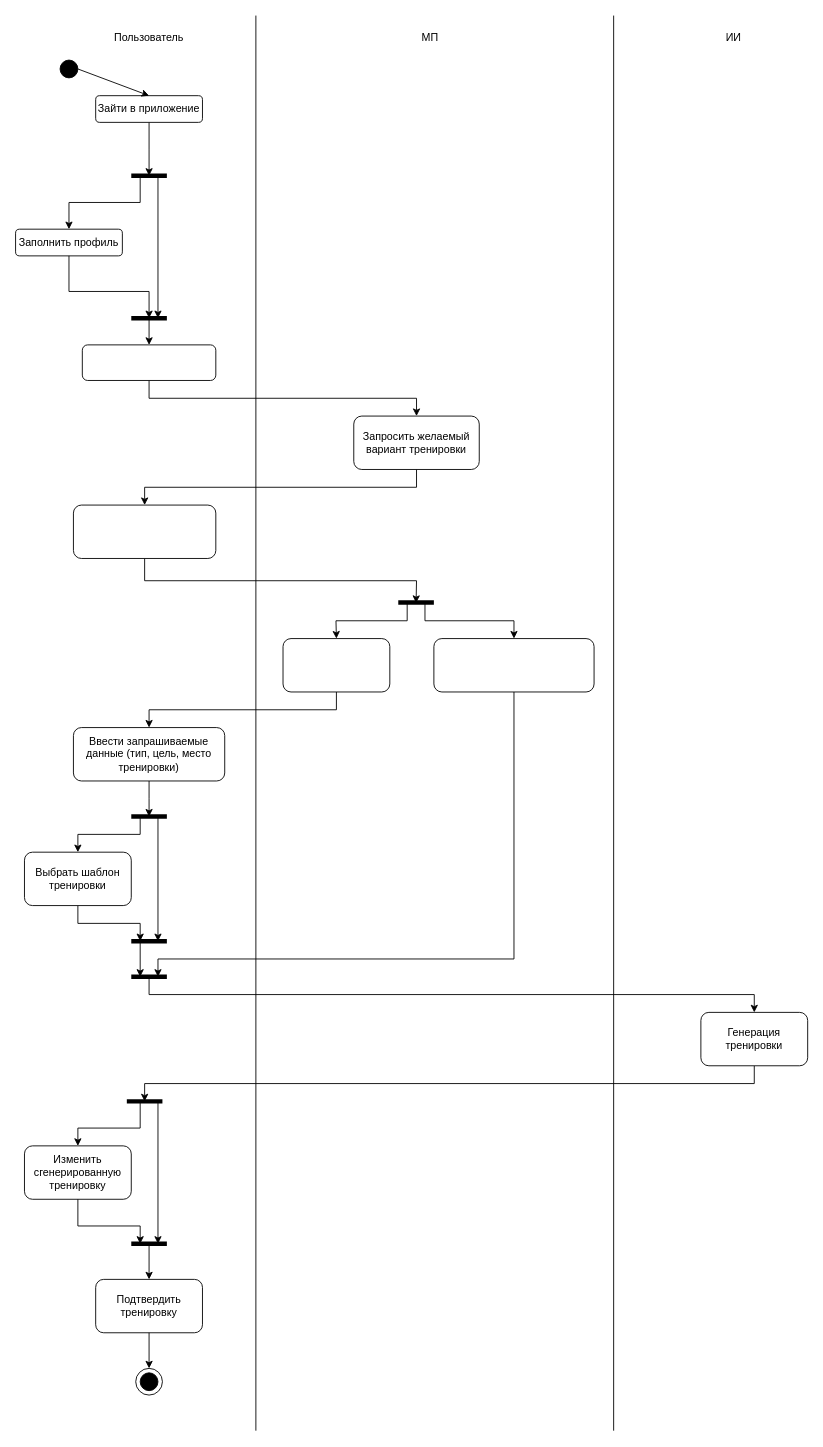
Image size: 823x1447. Some labels were removed from this diagram. Here are the shapes that lost their labels. From the top down, the centre of each, then its label:
At (148,362): "Перейти на страницу создания тренировки".
At (144,531): "Выбрать один из предложенных вариантов тренировки".
At (336,665): "Запросить данные для тренировки".
At (513,665): "Отображается предзаполненная форма настроек тренировки".
